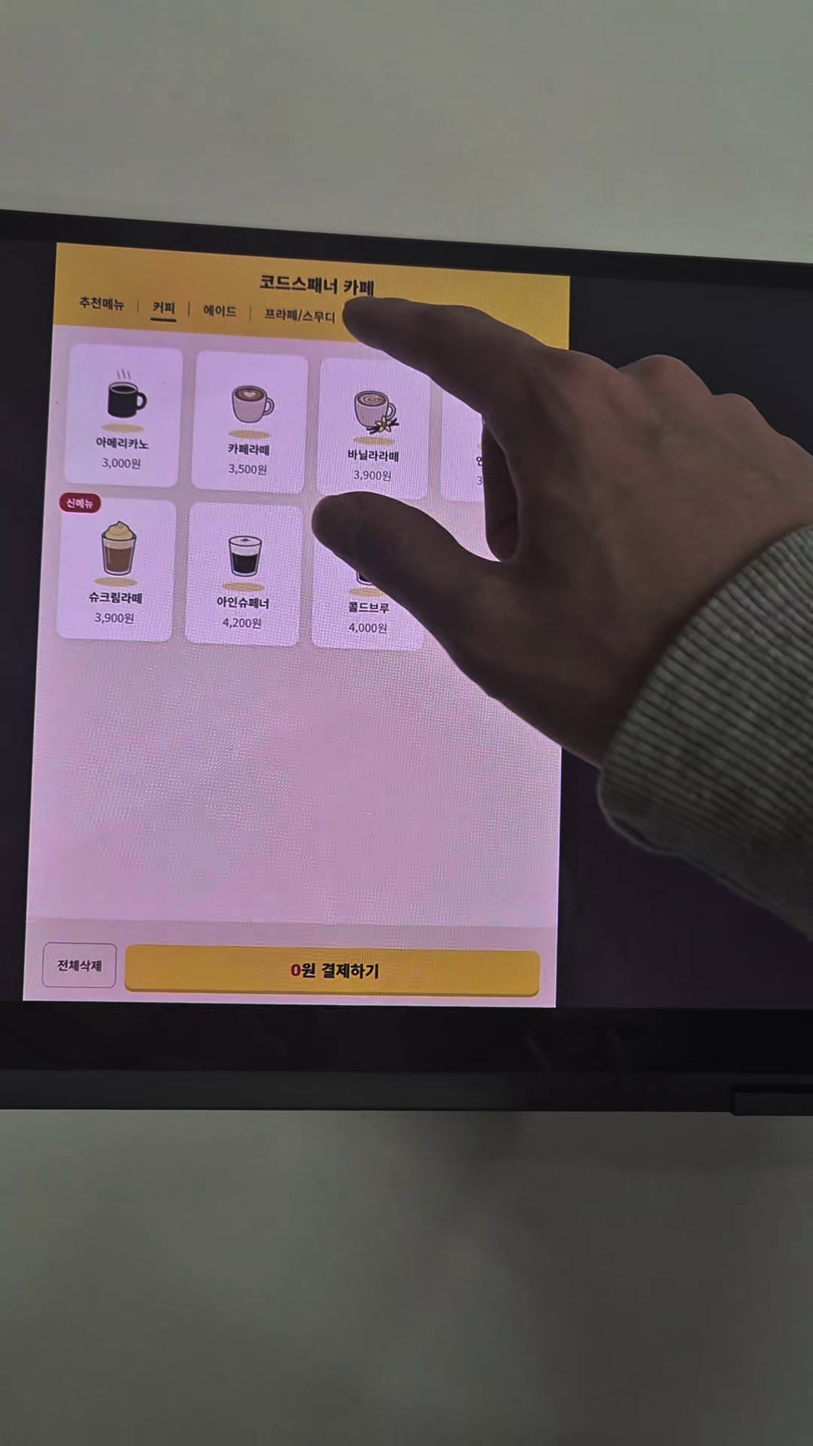action_button: (125, 945, 540, 997), (43, 943, 117, 987)
category_tab: (262, 306, 338, 326), (76, 294, 128, 314), (201, 302, 238, 320), (150, 300, 178, 316)
menu_back: (57, 492, 175, 643), (64, 344, 183, 488), (185, 502, 303, 647), (191, 350, 309, 494), (310, 508, 428, 651), (316, 357, 431, 500)
menu_name: (94, 435, 151, 452), (87, 589, 144, 606), (346, 447, 400, 464), (215, 595, 271, 611), (347, 599, 392, 616), (226, 441, 272, 457)
menu_price: (101, 456, 142, 472), (352, 468, 392, 483), (348, 621, 388, 636), (93, 611, 135, 625), (227, 463, 268, 477), (222, 616, 263, 630)
